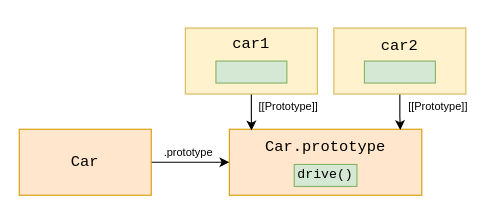
This 491x220 diagram has some shape labels left out. The shapes that lost their labels are listed below. From the top down, each one's centre as x and y in pixels, then its label:
At [251,71]: "speed=2".
At [399,71]: "speed=5".
